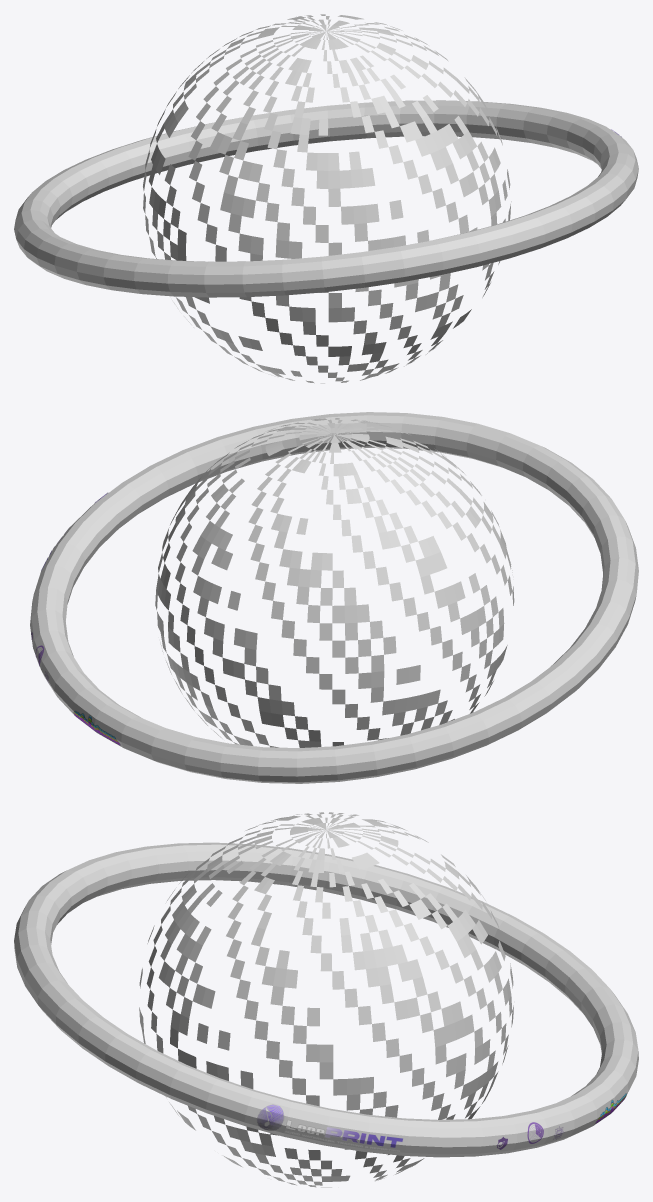
File: sphereV5.0.1.glb
The picture shows the model from 3 angles, top to bottom: view 1: azimuth 30°, elevation 25°; view 2: azimuth 150°, elevation 25°; view 3: azimuth 270°, elevation 25°; orthographic projection. The views are drawn at different scales.
Parts seen in each view (by area): view 1: Torus, Sphere; view 2: Torus, Sphere; view 3: Torus, Sphere, loopPrint-header.
Part boxes in pixels (<box>): Torus: <box>14,100,638,297</box>; Sphere: <box>143,14,511,383</box>; Torus: <box>30,412,638,783</box>; Sphere: <box>155,418,514,747</box>; Torus: <box>14,842,638,1157</box>; Sphere: <box>139,812,513,1187</box>; loopPrint-header: <box>257,1104,403,1151</box>.
Bounding box in the file's own units: 17.65 × 10 × 16.64.
5 materials, 5 textured.
